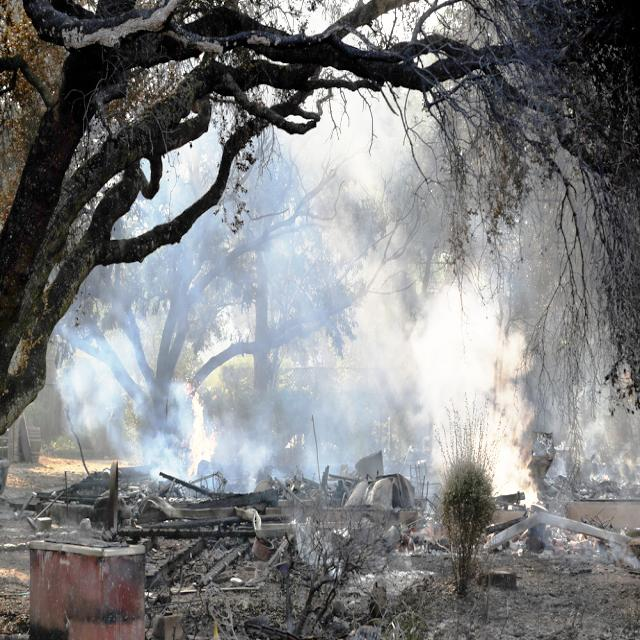api: (181, 375, 225, 484)
asap: (131, 124, 449, 526), (48, 278, 319, 510), (406, 252, 553, 527), (539, 331, 640, 515)
